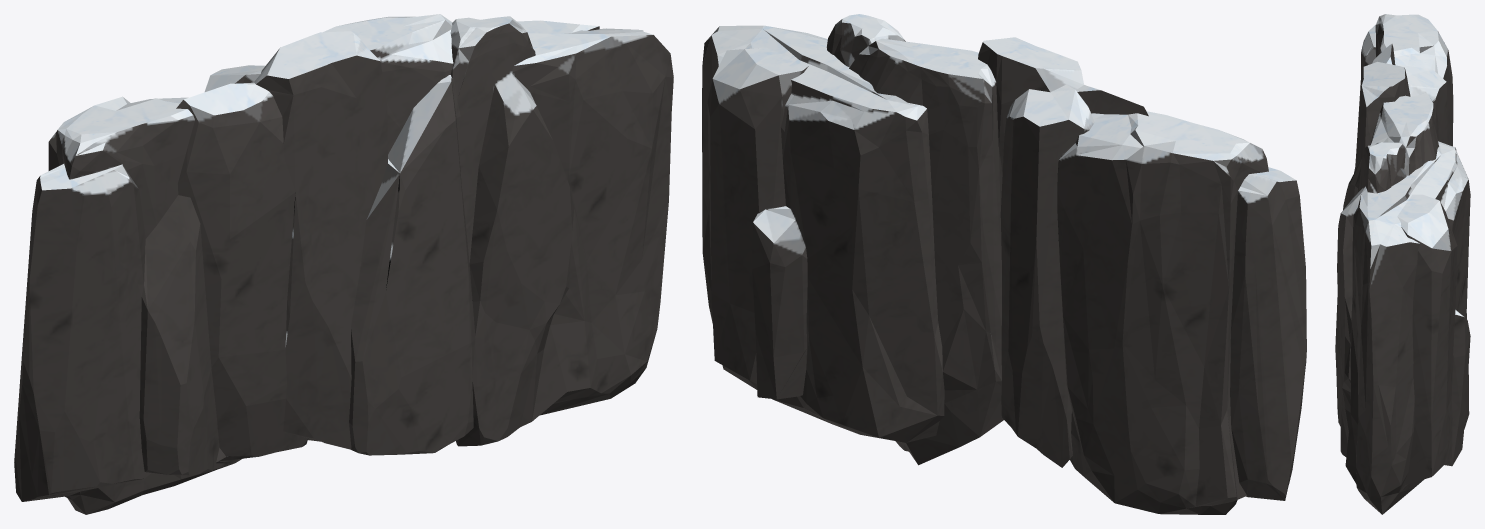
The model's file is pass_wall_c.gltf.
3 renders of one model, left to right at view 1: azimuth 30°, elevation 25°; view 2: azimuth 150°, elevation 25°; view 3: azimuth 270°, elevation 25°, orthographic. The views are drawn at different scales.
Visible parts, largest first — view 1: pass_wall_c; view 2: pass_wall_c; view 3: pass_wall_c.
Part boxes in pixels (x1,y1,x2,y2): pass_wall_c: (14,14,673,514); pass_wall_c: (702,14,1306,514); pass_wall_c: (1335,14,1470,514).
Size of the model in its own units: 10.91 by 7.16 by 2.56.
1 material, 1 textured.
